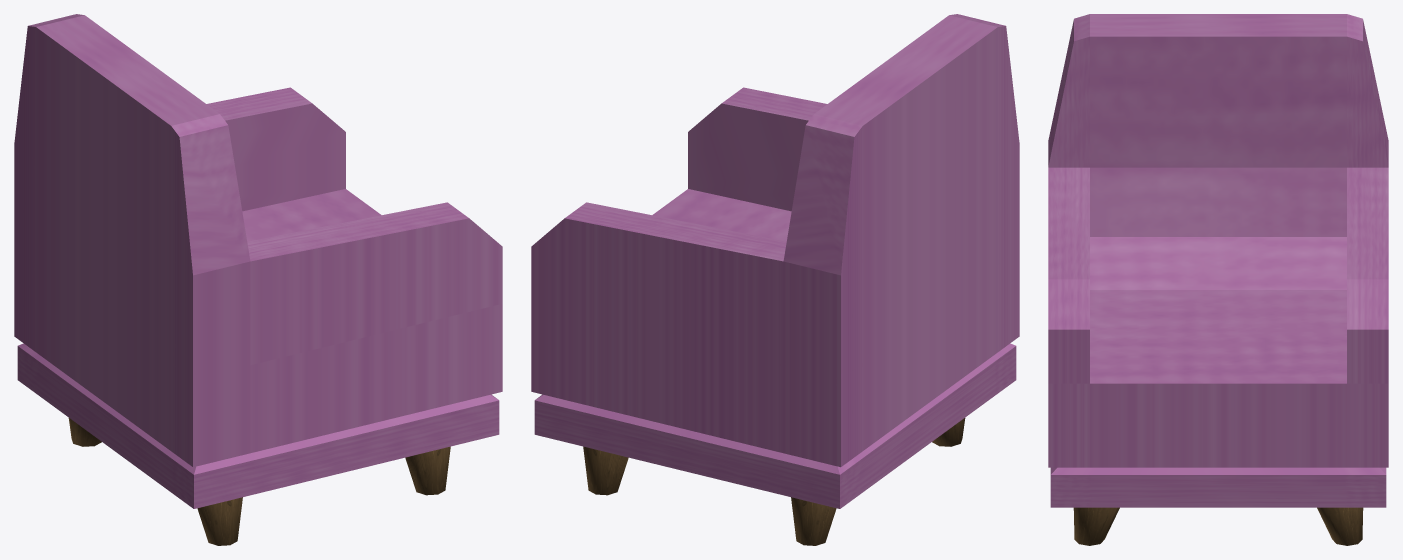
The model's file is poltrona.fbx.
3 views of the same model, side by side, from view 1: azimuth 30°, elevation 25°; view 2: azimuth 150°, elevation 25°; view 3: azimuth 270°, elevation 25° (orthographic). The views are drawn at different scales.
Visible parts, largest first — view 1: Cube, Cylinder; view 2: Cube, Cylinder; view 3: Cube, Cylinder.
Boxes of the visible parts, box(x1,y1,x2,y2) form: Cube: box(14, 14, 502, 508); Cylinder: box(68, 418, 450, 545); Cube: box(531, 14, 1019, 508); Cylinder: box(583, 418, 965, 545); Cube: box(1048, 14, 1388, 507); Cylinder: box(1073, 507, 1363, 545).
Bounding box in the file's own units: 257 × 337 × 257.
2 materials, 2 textured.
